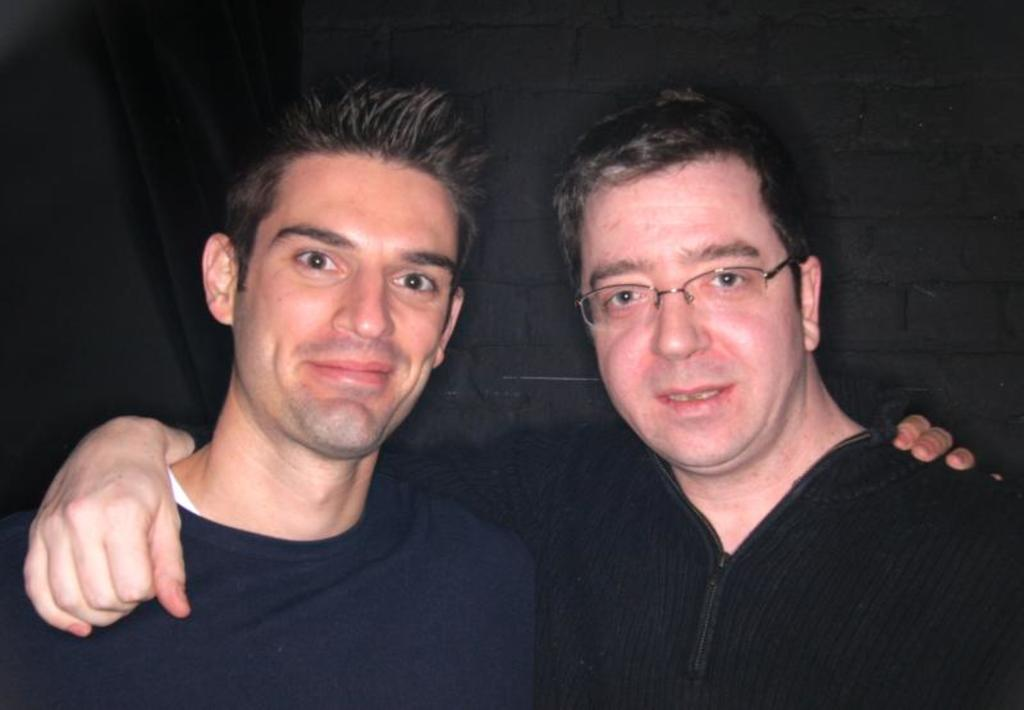Human_hand: (32, 406, 195, 642), (888, 412, 1006, 484)
